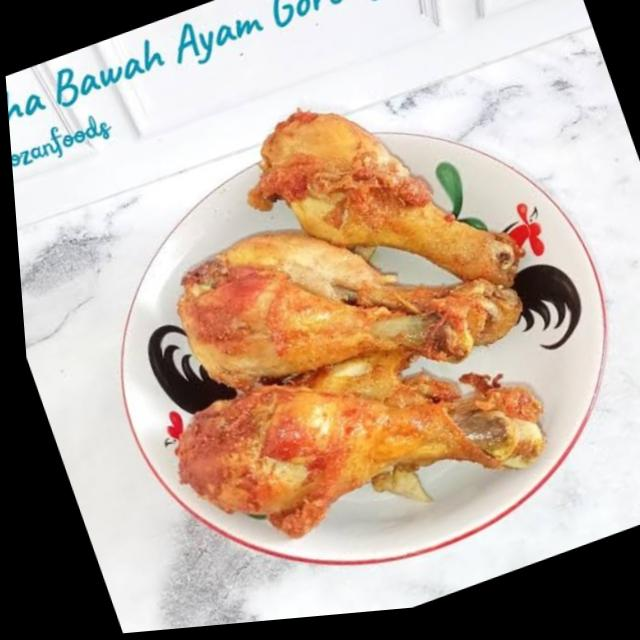CHICKEN FRY: (172, 105, 541, 536)
